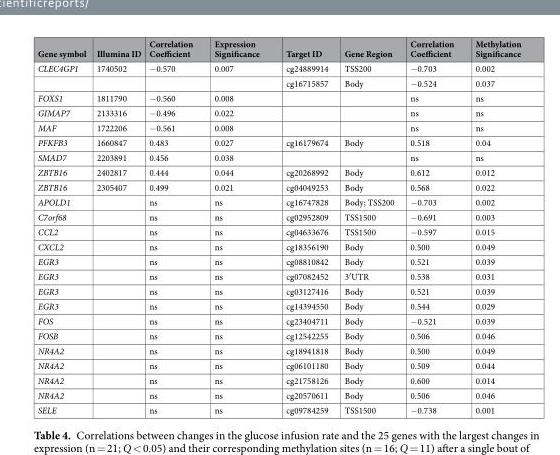table: (36, 37, 520, 415)
table column: (202, 37, 272, 415), (335, 37, 401, 415), (272, 37, 335, 415), (401, 37, 464, 415), (144, 37, 202, 415), (464, 37, 520, 415), (36, 37, 90, 415), (90, 37, 144, 415)
table column header: (36, 37, 520, 60)
table row: (36, 37, 520, 60), (36, 60, 520, 75), (36, 75, 520, 90), (36, 90, 520, 105), (36, 119, 520, 134), (36, 134, 520, 149), (36, 149, 520, 164), (36, 164, 520, 179), (36, 179, 520, 194), (36, 194, 520, 209), (36, 223, 520, 238), (36, 238, 520, 253), (36, 253, 520, 268), (36, 268, 520, 283), (36, 283, 520, 298), (36, 298, 520, 313), (36, 327, 520, 342), (36, 342, 520, 357), (36, 357, 520, 372), (36, 372, 520, 387), (36, 387, 520, 402), (36, 105, 520, 119), (36, 209, 520, 223), (36, 313, 520, 327), (36, 402, 520, 415)
table spanning cell: (36, 60, 90, 90)
